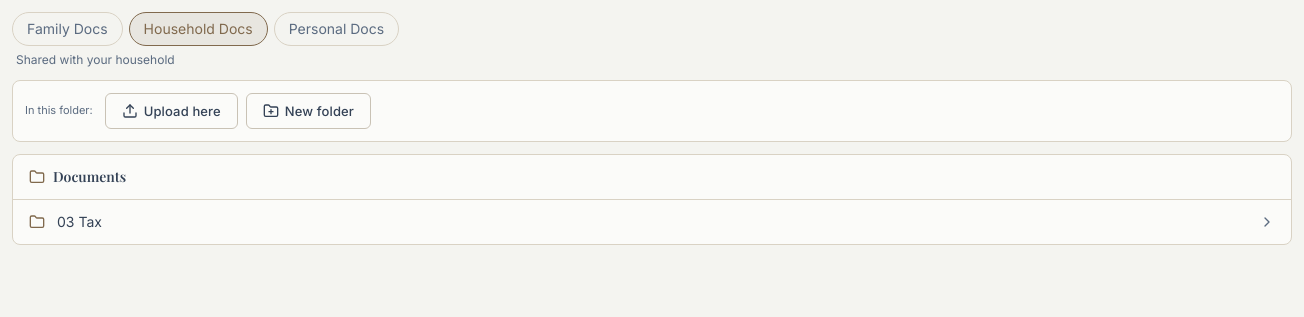
PortalVault drawer picker › shows a picker with the three spaces and what each one means, and switches roots
The image size is (1304, 317).
Expected: the text "03 Tax" is shown, [57,213,102,230]
Expected: the text "Shared with your household" is shown, [16,52,175,67]
Click the tab "Family Docs": (67, 29) [12,12,123,46]
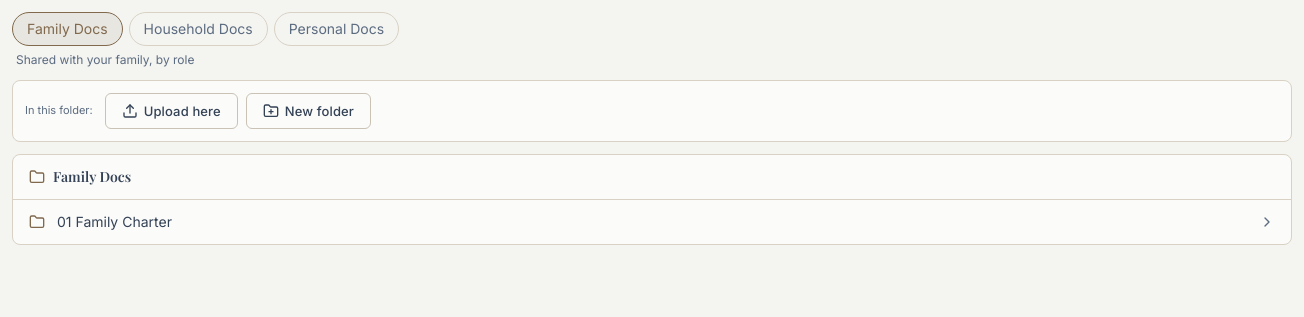
Now the text "01 Family Charter" is shown, box [57,213,172,230]
Now the text "Shared with your family, by role" is shown, box [16,52,194,67]
Click the tab "Personal Docs": (336, 29) [274,12,399,46]
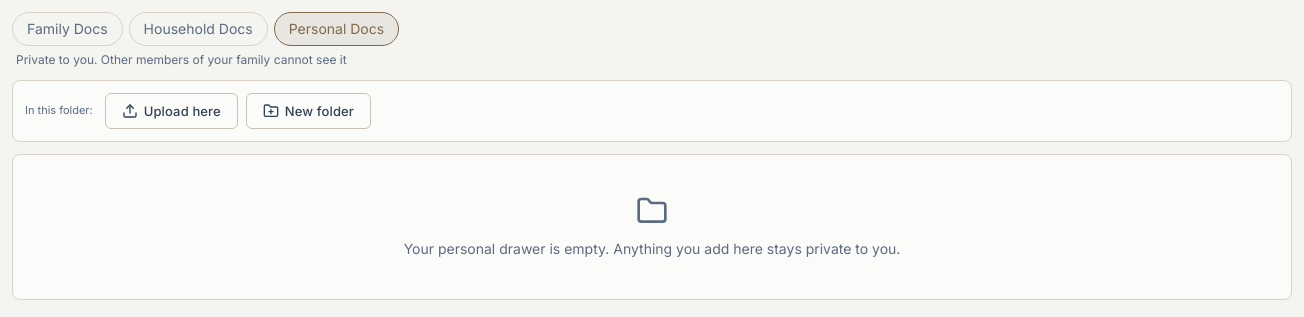
Now the text "Anything you add here stays private to you" is shown, box [404,240,900,257]
Now the text "Private to you. Other members of your family cannot see it" is shown, box [16,52,347,67]
